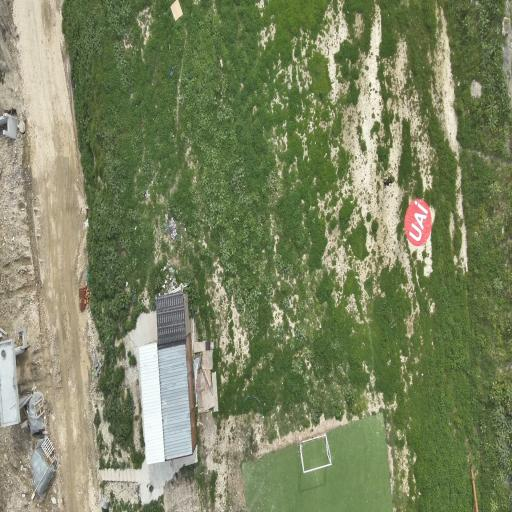uai: (404, 199, 432, 246)
